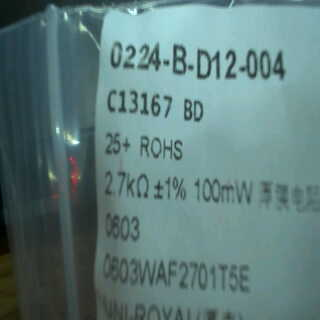2.7kR: (99, 169, 151, 204)
